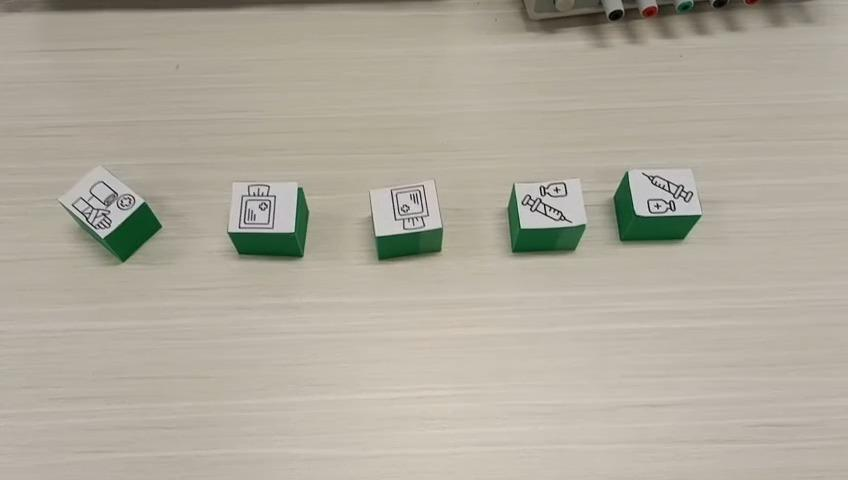Bandages: (55, 163, 162, 262)
Gauze: (227, 181, 310, 259), (367, 177, 443, 260)
antiseptic cream: (612, 166, 703, 241), (507, 177, 589, 253)
